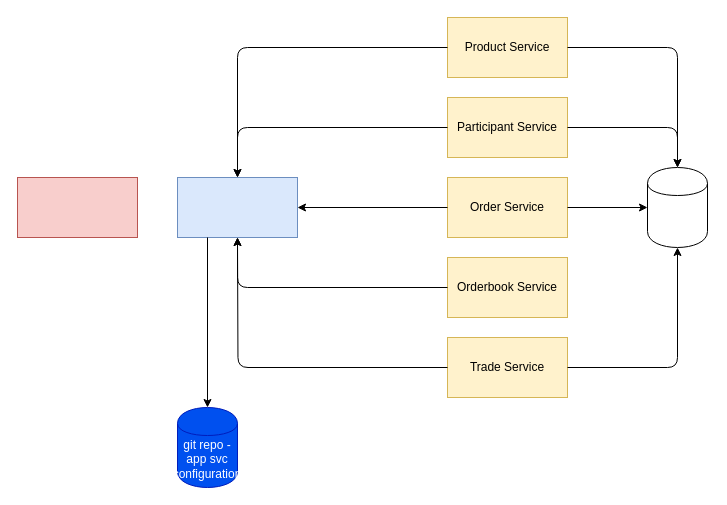
Some shapes in this 727 by 505 pixel diagram are drawn without their labels. The shapes that lost their labels are listed below. From the top down, each one's centre as x and y in pixels, then its label:
(77,207): Info Service
(237,207): Configuration Service
(677,207): PostgreSQL
